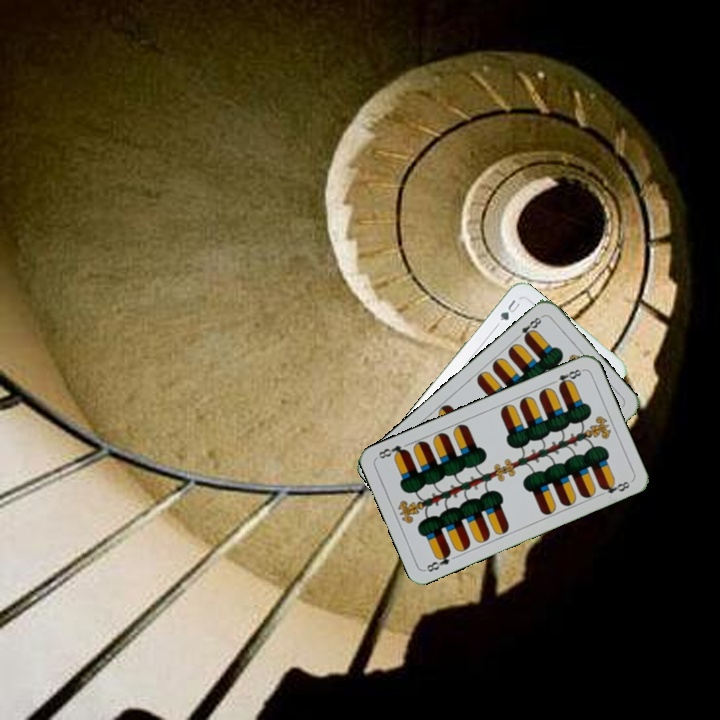E8: (512, 312, 546, 343), (547, 365, 586, 390), (422, 547, 453, 574)
GU: (496, 295, 523, 323)
